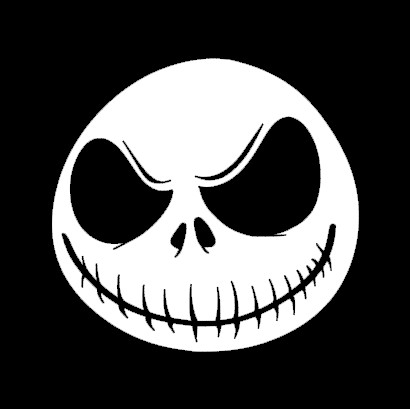Jack Skellington: (56, 59, 360, 354)
